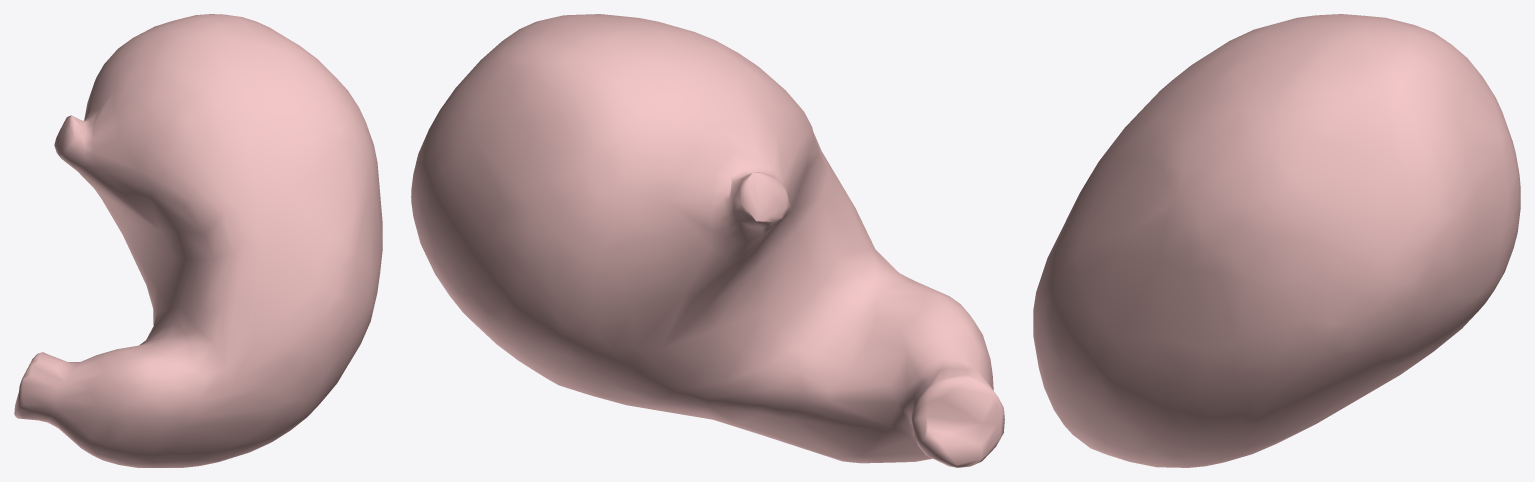
Rendered from estomago.glb.
The picture shows the model from 3 angles, left to right: view 1: azimuth 30°, elevation 25°; view 2: azimuth 150°, elevation 25°; view 3: azimuth 270°, elevation 25°; orthographic projection. The views are drawn at different scales.
Parts seen in each view (by area): view 1: estomago; view 2: estomago; view 3: estomago.
Boxes of the visible parts, left/top/right/bottom form: estomago: left=14, top=14, right=382, bottom=467; estomago: left=411, top=14, right=1004, bottom=467; estomago: left=1033, top=14, right=1520, bottom=467.
Size of the model in its own units: 0.1343 by 0.117 by 0.1129.
